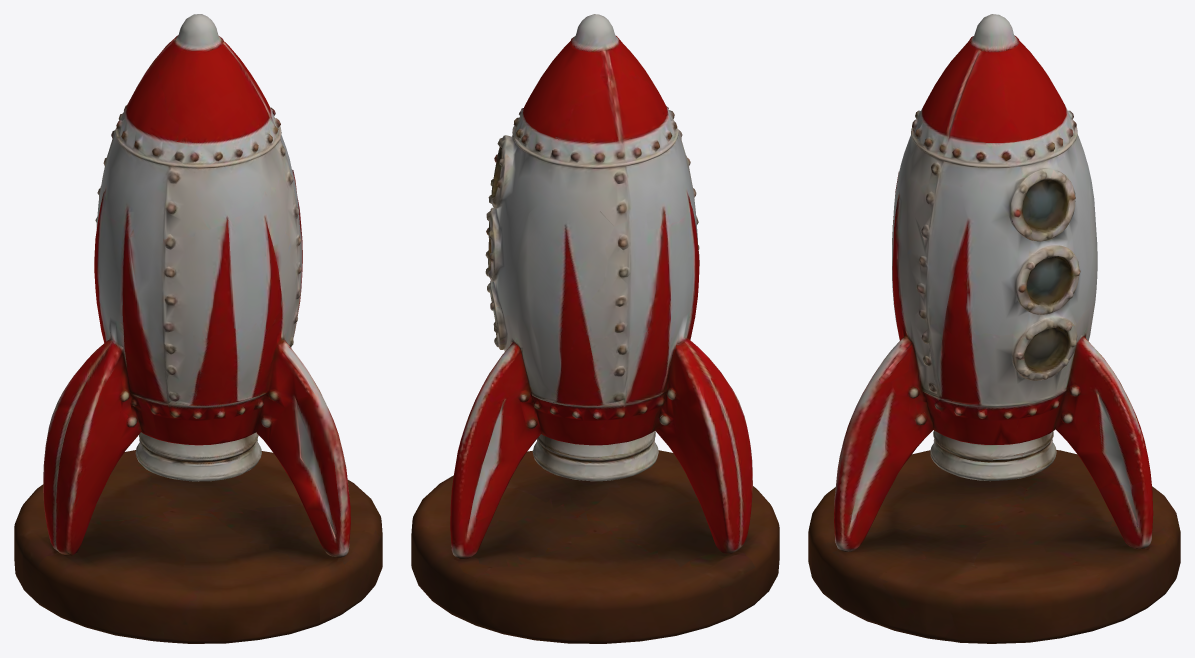
The model's file is scifi.glb.
3 views of the same model, side by side, from view 1: azimuth 30°, elevation 25°; view 2: azimuth 150°, elevation 25°; view 3: azimuth 270°, elevation 25° (orthographic).
Parts seen in each view (by area): view 1: tripo_node_e8ae7997-895b-43e3-91a9-5c0102f9bee5; view 2: tripo_node_e8ae7997-895b-43e3-91a9-5c0102f9bee5; view 3: tripo_node_e8ae7997-895b-43e3-91a9-5c0102f9bee5.
Boxes of the visible parts, x1,y1,x2,y2 form: tripo_node_e8ae7997-895b-43e3-91a9-5c0102f9bee5: (14,14,382,643); tripo_node_e8ae7997-895b-43e3-91a9-5c0102f9bee5: (411,14,779,643); tripo_node_e8ae7997-895b-43e3-91a9-5c0102f9bee5: (808,14,1180,643).
Size of the model in its own units: 0.6072 by 1 by 0.6099.
1 material, 1 textured.
